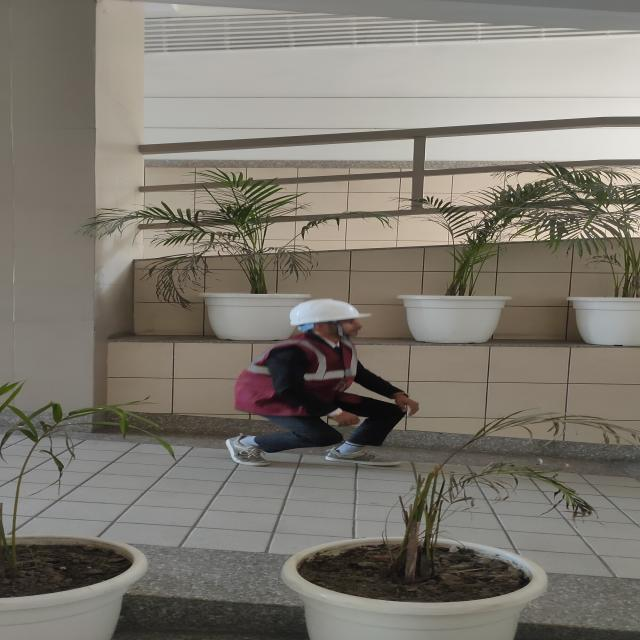safe: (226, 299, 418, 465)
